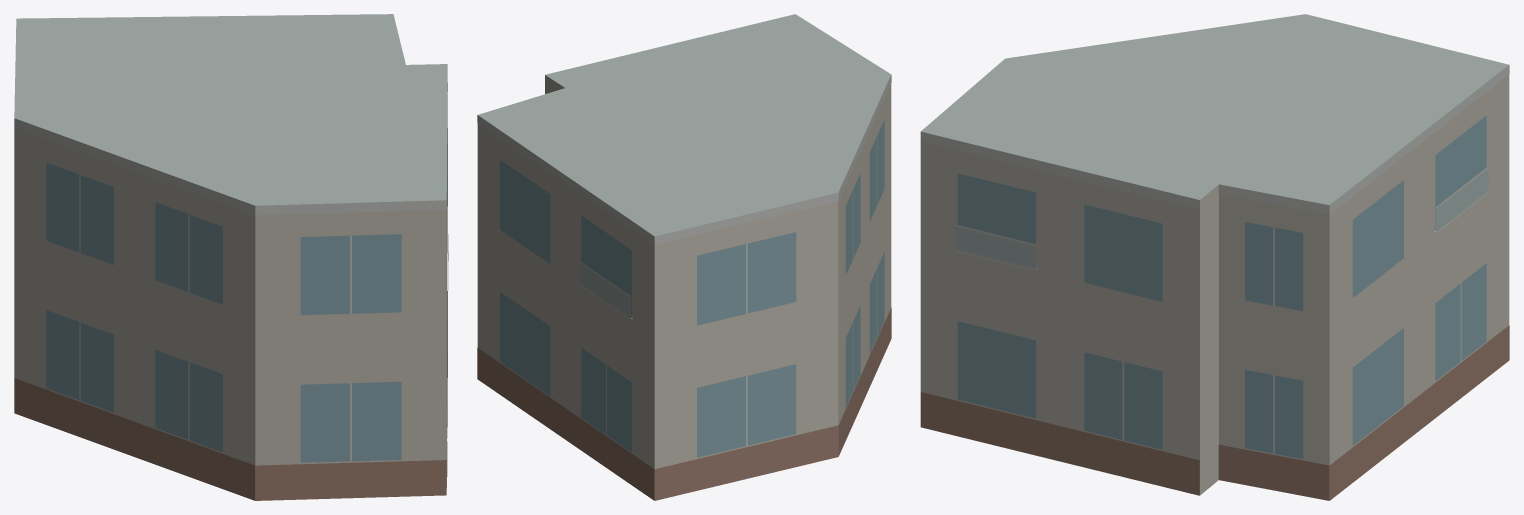
File: survey-upis-32530127.glb
3 renders of one model, left to right at view 1: azimuth 30°, elevation 25°; view 2: azimuth 150°, elevation 25°; view 3: azimuth 270°, elevation 25°, orthographic. The views are drawn at different scales.
Visible parts, largest first — view 1: survey-upis-32530127.tmp; view 2: survey-upis-32530127.tmp; view 3: survey-upis-32530127.tmp.
Boxes of the visible parts, bbox=[...] form: survey-upis-32530127.tmp: bbox=[14, 14, 448, 500]; survey-upis-32530127.tmp: bbox=[477, 14, 891, 500]; survey-upis-32530127.tmp: bbox=[920, 14, 1509, 500].
Size of the model in its own units: 10.55 by 7.6 by 13.72.
